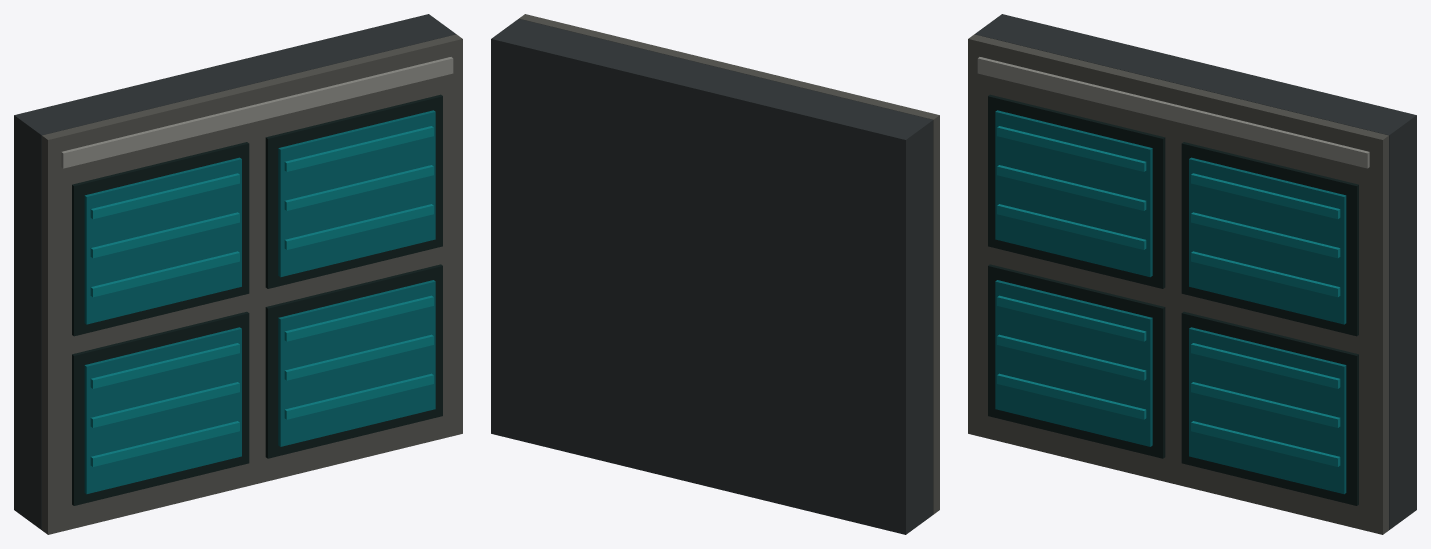
The model's file is CMU3DBlueFourMonitorBank.glb.
3 renders of one model, left to right at view 1: azimuth 30°, elevation 25°; view 2: azimuth 150°, elevation 25°; view 3: azimuth 330°, elevation 25°, orthographic.
Visible parts, largest first — view 1: cyan monitor glass (×4), monitor front bezel, screen black border (×4), wall monitor rear housing, horizontal monitor scan band (×12), upper monitor silver strip; view 2: wall monitor rear housing, monitor front bezel; view 3: cyan monitor glass (×4), monitor front bezel, screen black border (×4), wall monitor rear housing, horizontal monitor scan band (×12), upper monitor silver strip.
Boxes of the visible parts, bbox=[...] form: cyan monitor glass (×4): bbox=[84, 110, 435, 494]; monitor front bezel: bbox=[42, 34, 462, 534]; screen black border (×4): bbox=[72, 94, 442, 505]; wall monitor rear housing: bbox=[14, 14, 455, 529]; horizontal monitor scan band (×12): bbox=[90, 126, 433, 466]; upper monitor silver strip: bbox=[61, 57, 453, 168]; wall monitor rear housing: bbox=[491, 19, 933, 534]; monitor front bezel: bbox=[519, 14, 939, 514]; cyan monitor glass (×4): bbox=[995, 110, 1346, 494]; monitor front bezel: bbox=[968, 34, 1388, 534]; screen black border (×4): bbox=[988, 94, 1358, 505]; wall monitor rear housing: bbox=[975, 14, 1416, 529]; horizontal monitor scan band (×12): bbox=[997, 126, 1340, 466]; upper monitor silver strip: bbox=[977, 57, 1369, 168].
Bounding box in the file's own units: 1 × 0.91 × 0.175.
